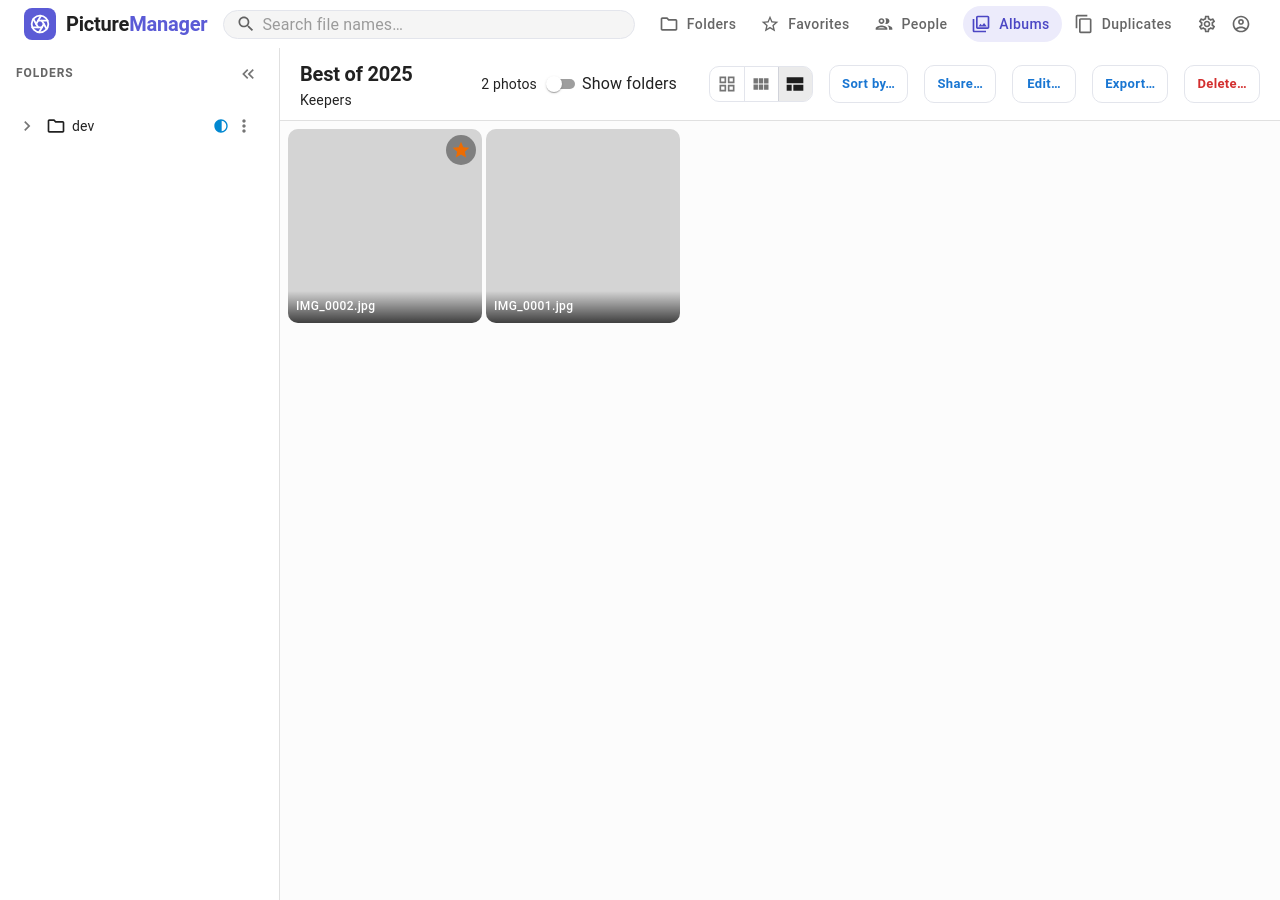
Test case: ShareDialog › shares with a person who can view, and lists them
Click the button "Share…" at (960, 84), box [924,65,996,103]
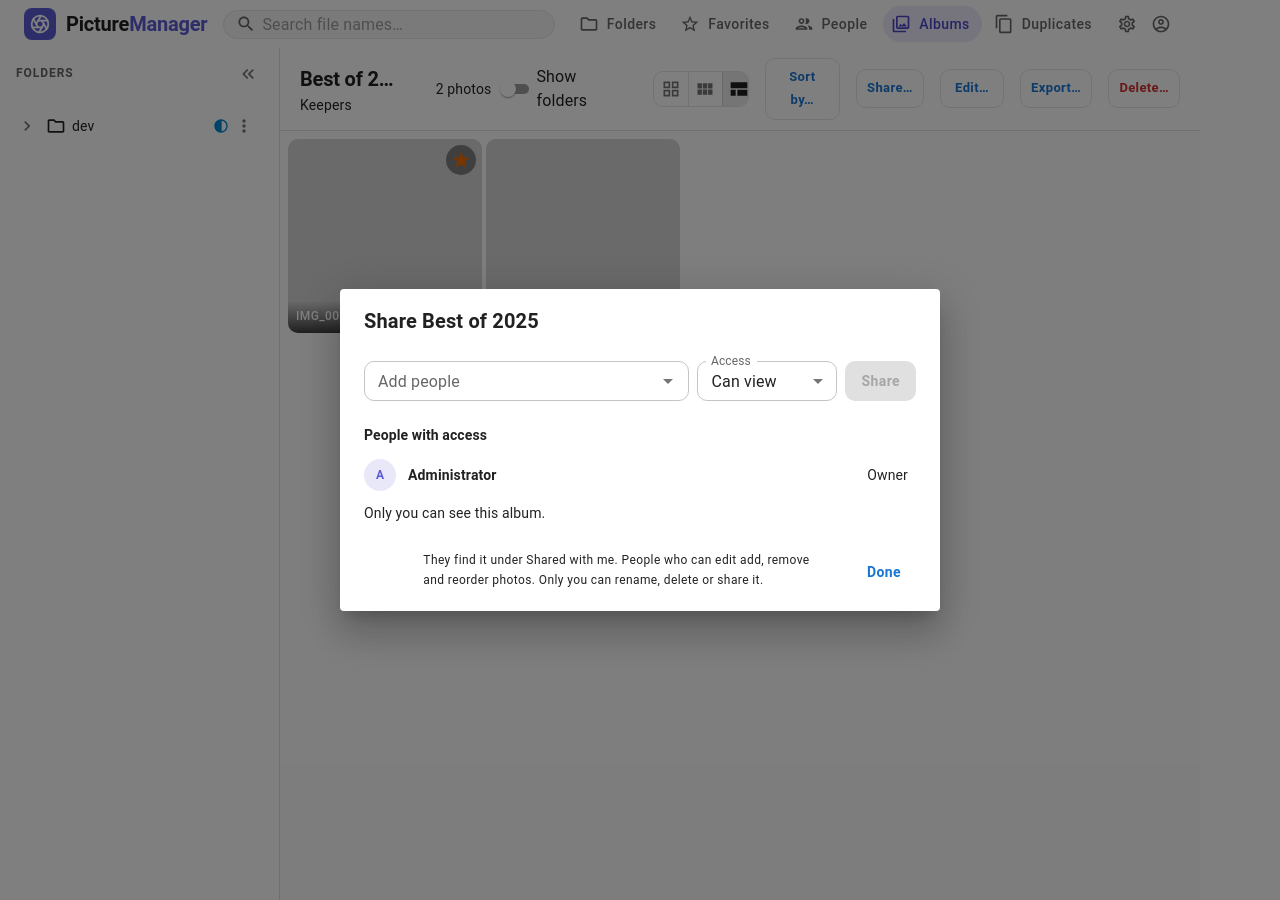
Click the dropdown labelled "Add people" at (510, 381), box [370,367,650,395]
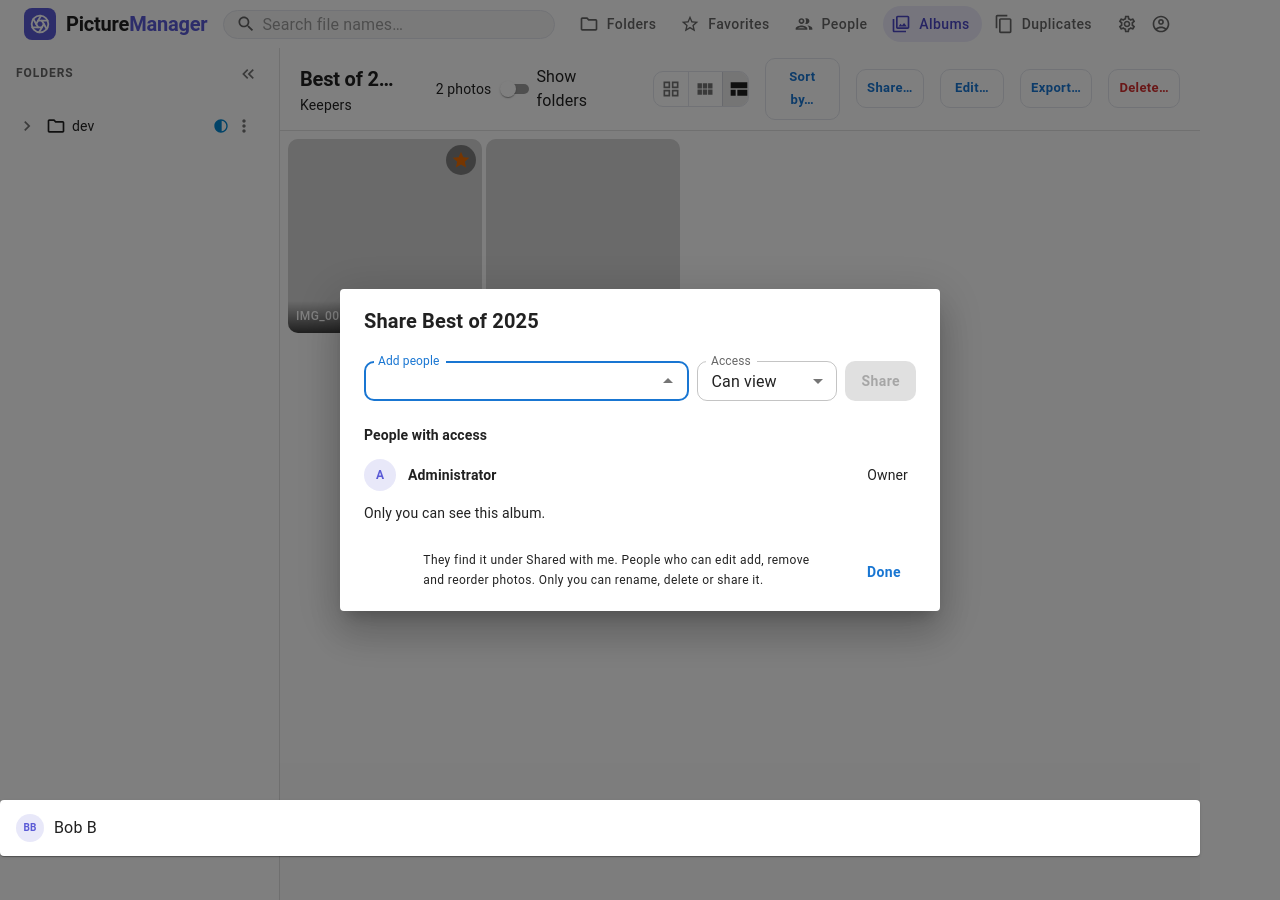
Click the option "BB Bob B" at (56, 828), box [16,814,97,842]
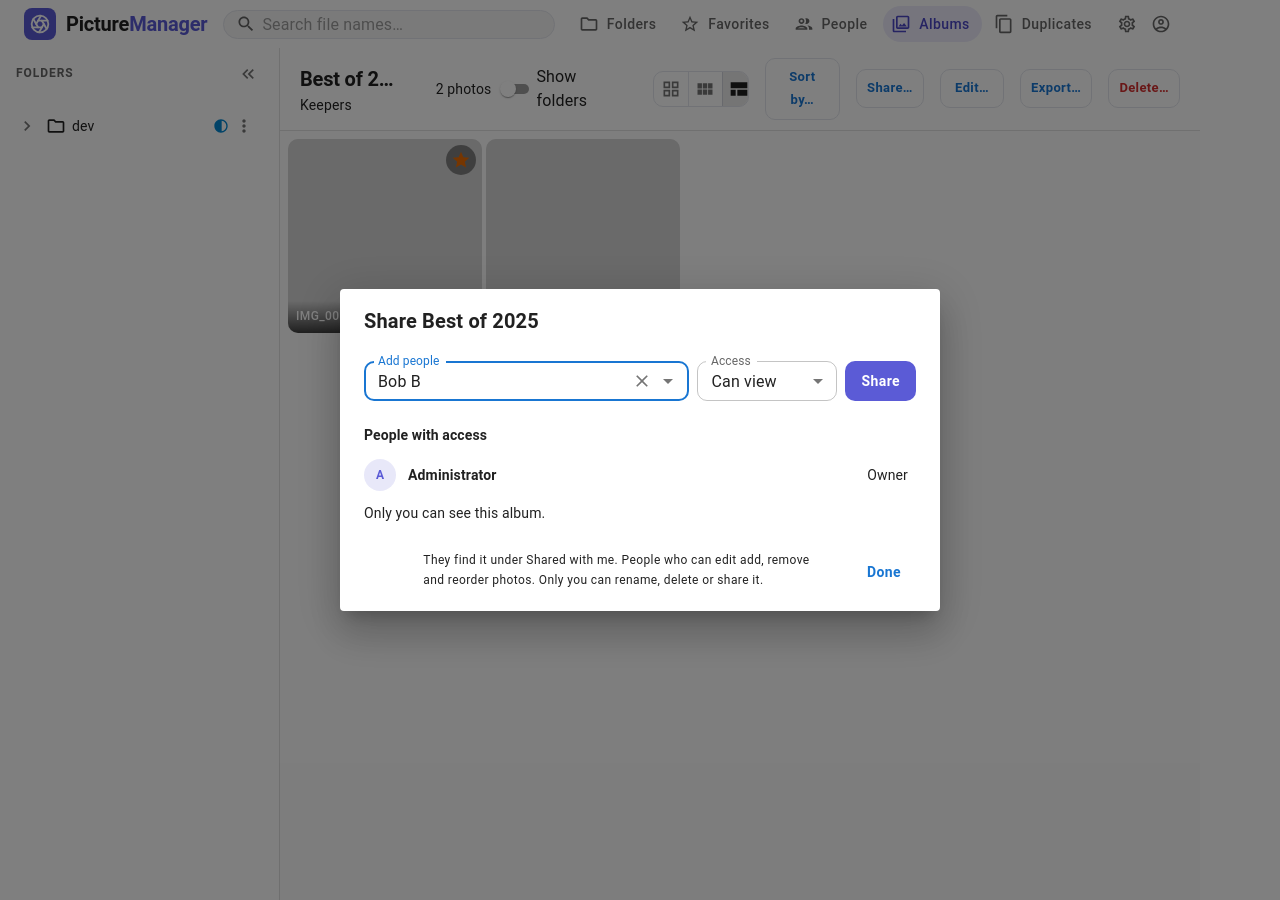
Click the button "Share" at (881, 381), box [846,361,916,401]
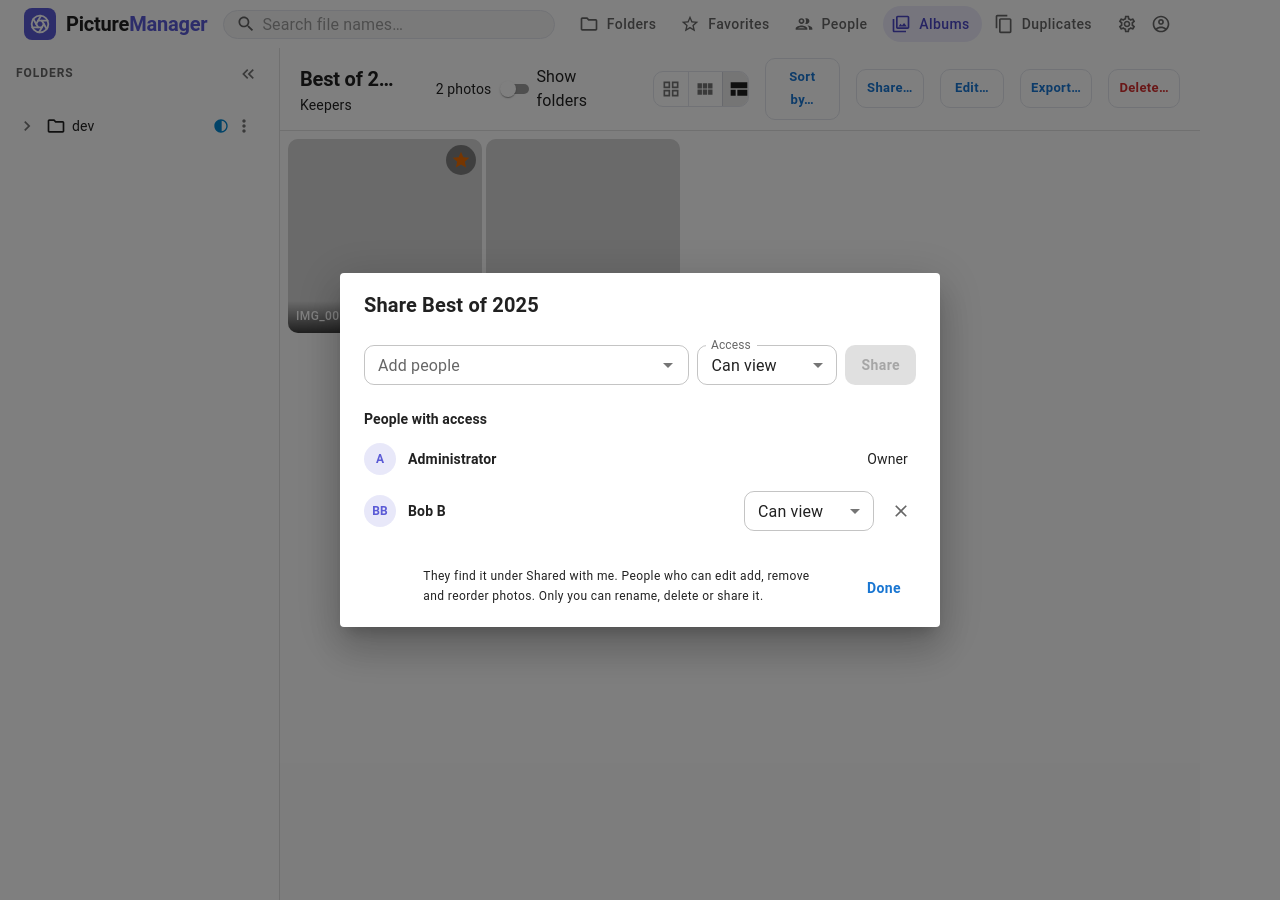
Expected: the dropdown named "Access for Bob B" reads "Can view", [758,502,823,521]
